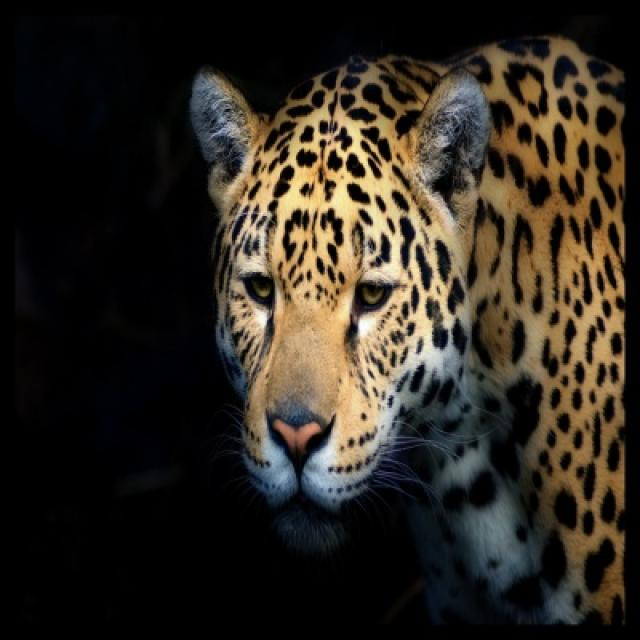Jaguar: (189, 34, 635, 630)
